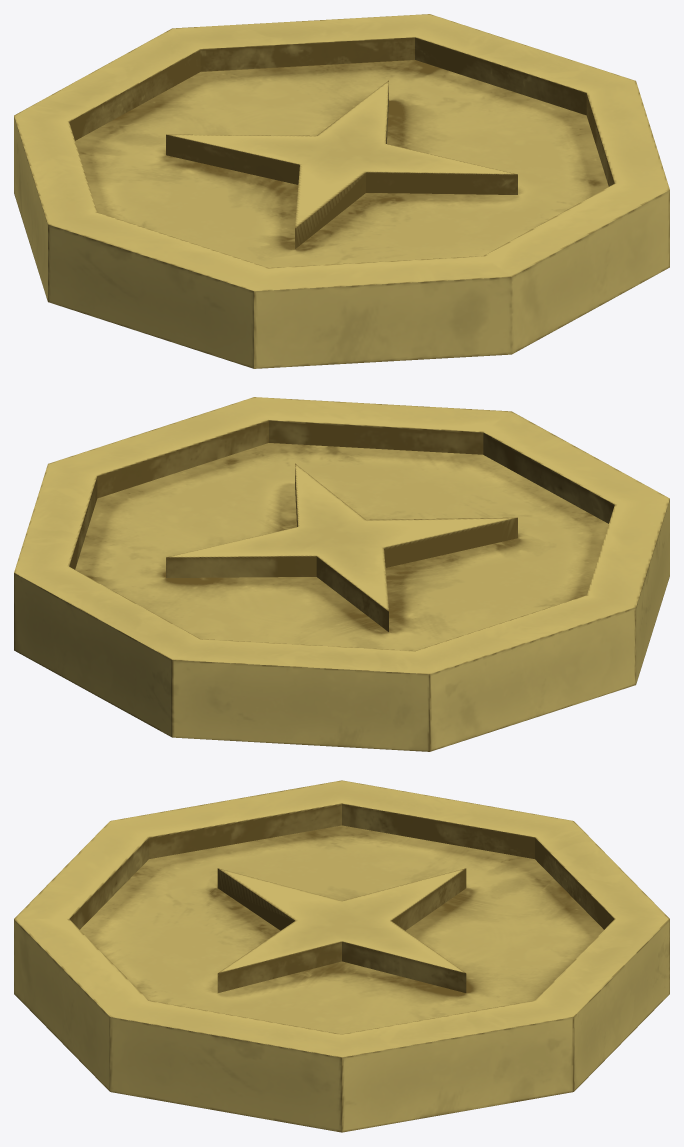
File: COIN.fbx
3 views of the same model, one above another, from view 1: azimuth 30°, elevation 25°; view 2: azimuth 150°, elevation 25°; view 3: azimuth 270°, elevation 25° (orthographic). The views are drawn at different scales.
Parts seen in each view (by area): view 1: Coin; view 2: Coin; view 3: Coin.
Part boxes in pixels (x1,y1,x2,y2): Coin: [14, 14, 669, 368]; Coin: [14, 397, 669, 751]; Coin: [14, 780, 669, 1132].
Size of the model in its own units: 28.41 by 3.58 by 28.41.
